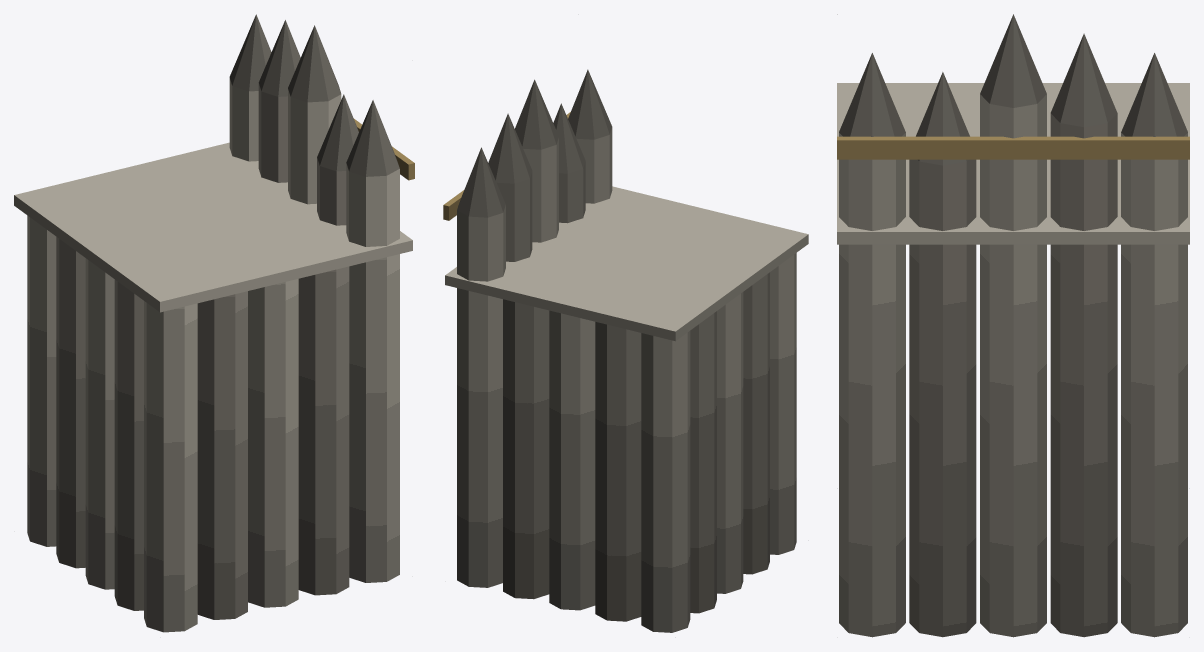
Rendered from perimeter_wall_stone_f13.glb.
3 views of the same model, side by side, from view 1: azimuth 30°, elevation 25°; view 2: azimuth 150°, elevation 25°; view 3: azimuth 270°, elevation 25° (orthographic). The views are drawn at different scales.
Bounding box in the file's own units: 2.01 × 3.9 × 2.
1 material, 1 textured.
